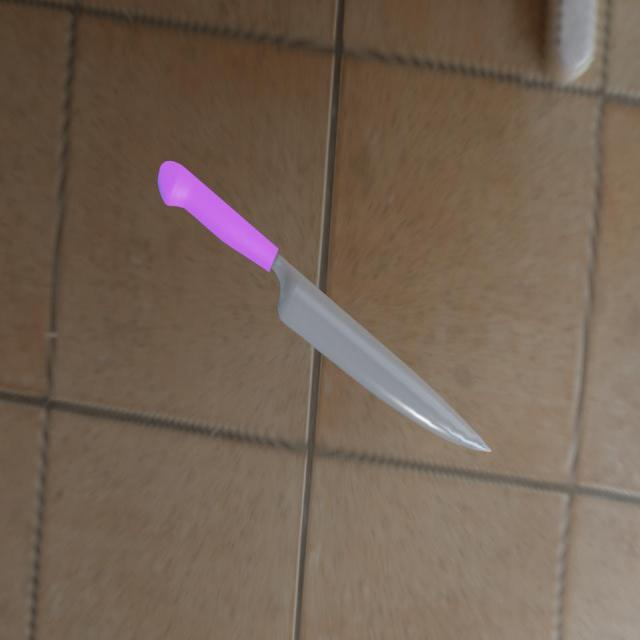knife: (156, 160, 278, 272)
